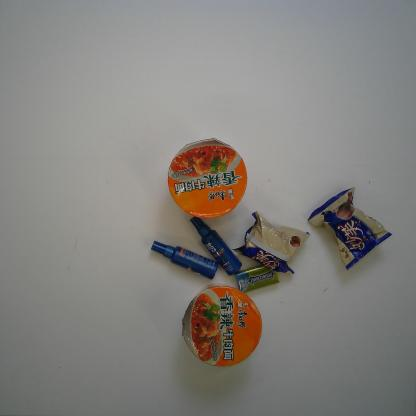Dessert: (306, 186, 394, 271), (230, 209, 310, 276)
Gum: (234, 264, 280, 293)
Instant Noodles: (180, 286, 264, 368), (167, 137, 248, 220)
Personal Hygiene: (189, 215, 242, 277), (150, 240, 219, 281)
